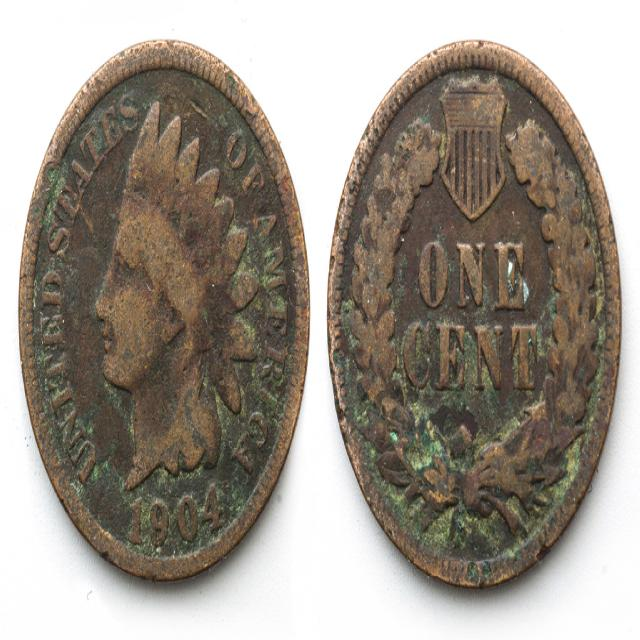Coin: (324, 25, 626, 592), (21, 54, 312, 586)
